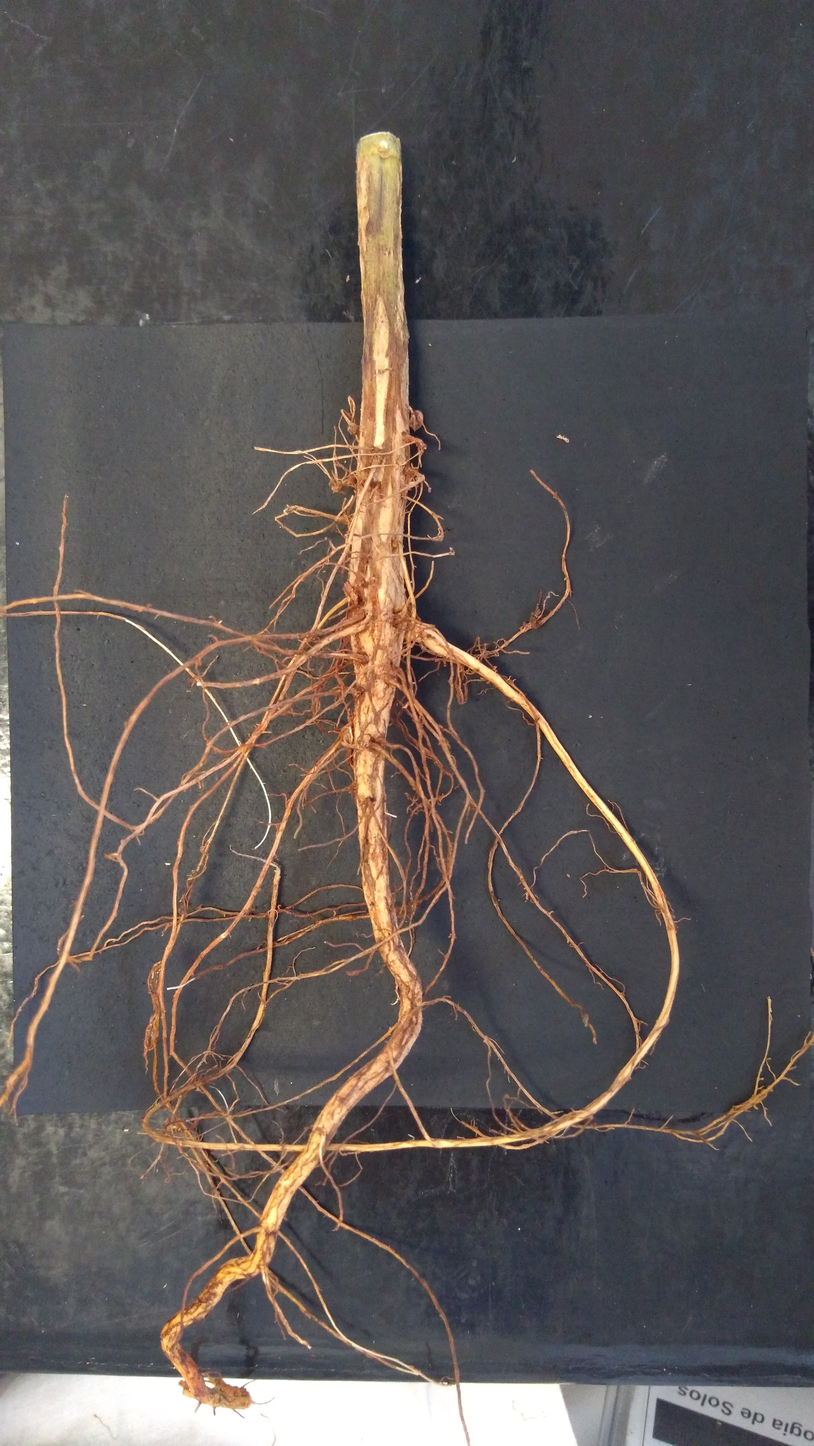nodule: (408, 409, 424, 431), (342, 725, 356, 748), (357, 733, 374, 750), (360, 800, 375, 818), (329, 478, 343, 493), (345, 748, 355, 769), (178, 1379, 190, 1391), (346, 422, 356, 435), (347, 708, 353, 725)
